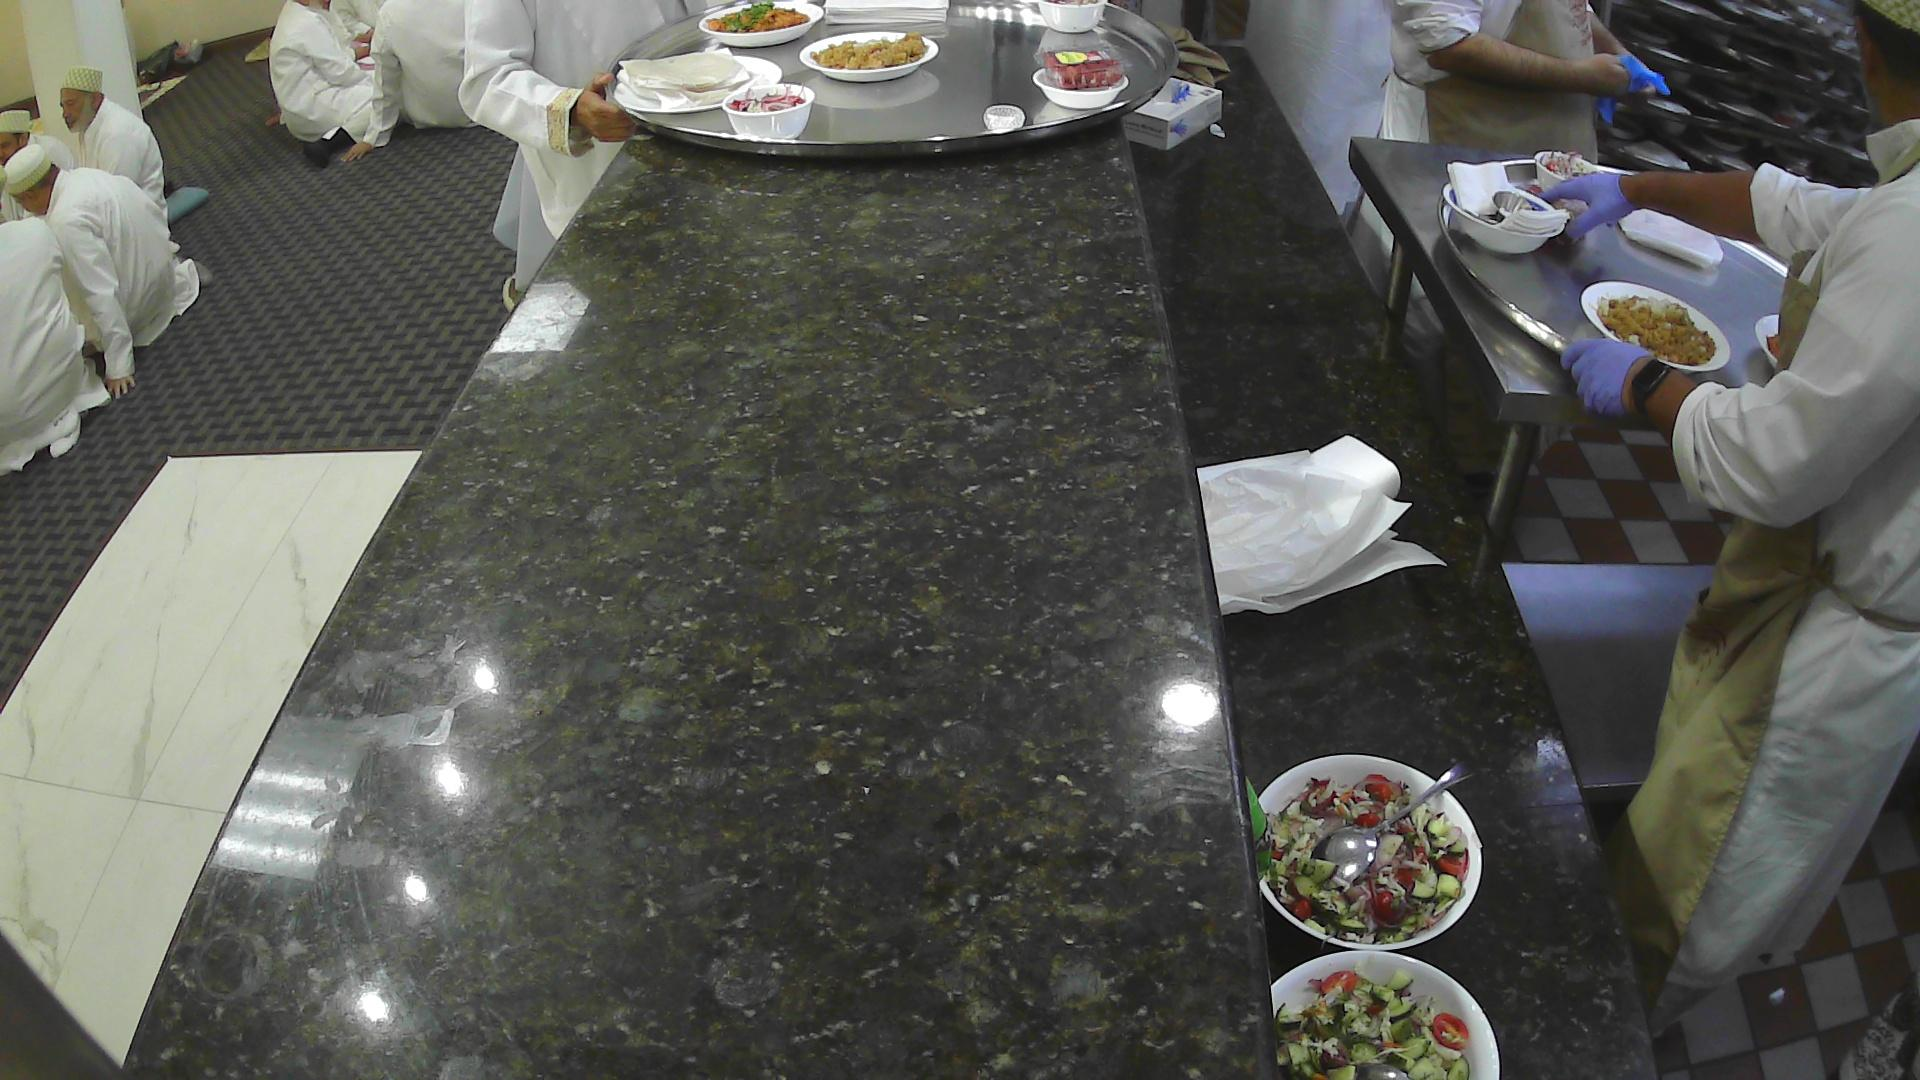thaal: (601, 0, 1179, 160), (1435, 157, 1792, 390)
